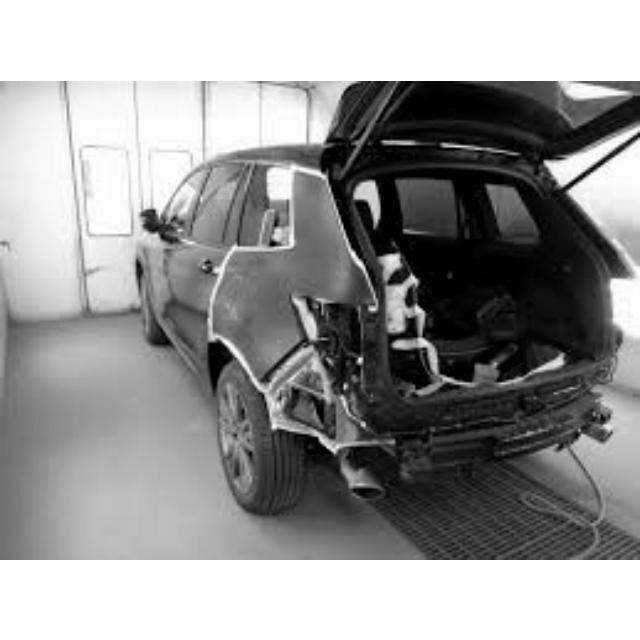Taillight-Damage: (310, 298, 397, 375)
boot-dent: (348, 156, 612, 389)
rear-bumper-dent: (269, 352, 401, 481)
